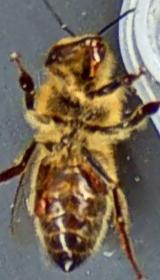varroa_mite: (77, 158, 112, 192), (28, 186, 49, 218)
